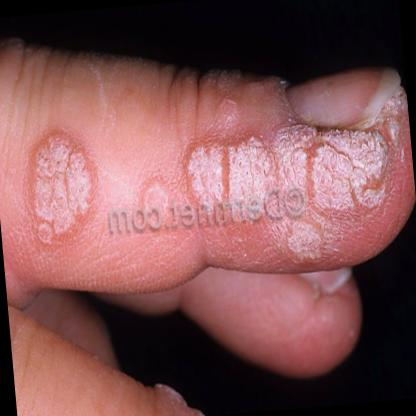Warts: (13, 118, 106, 248)
